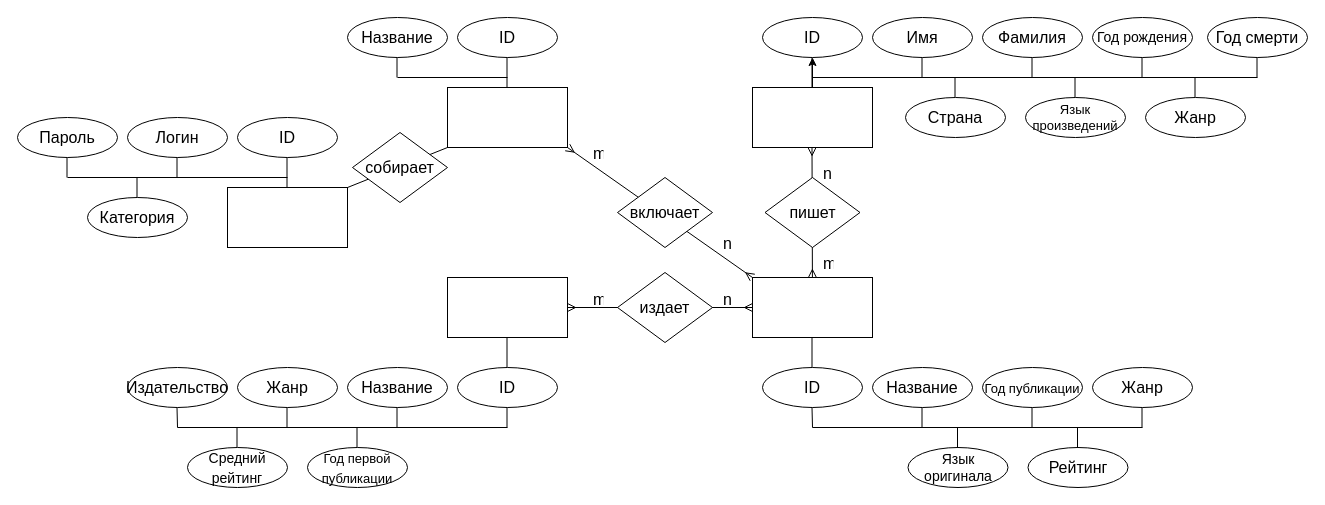
This 1325x505 diagram has some shape labels left out. The shapes that lost their labels are listed below. From the top down, each one's centre as x and y in pixels, then its label:
At [507,117]: "Книжная полка".
At [812,117]: "Автор".
At [287,217]: "Пользователь".
At [507,307]: "Серия".
At [812,307]: "Книга".
